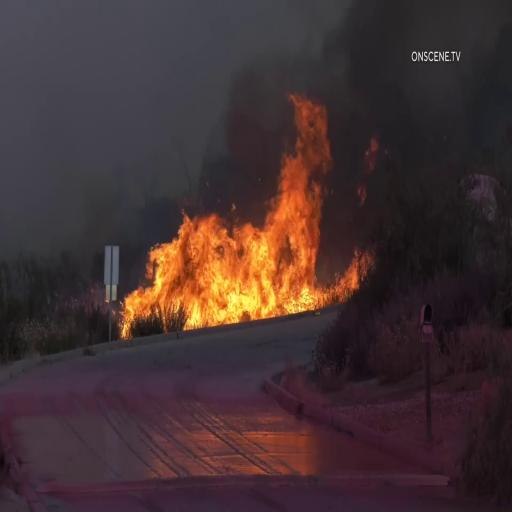fire: (129, 198, 275, 327), (253, 101, 335, 312)
